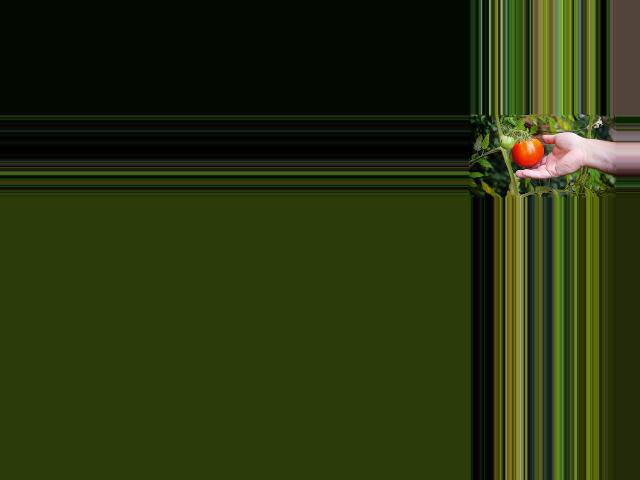tomato: (511, 138, 544, 166)
